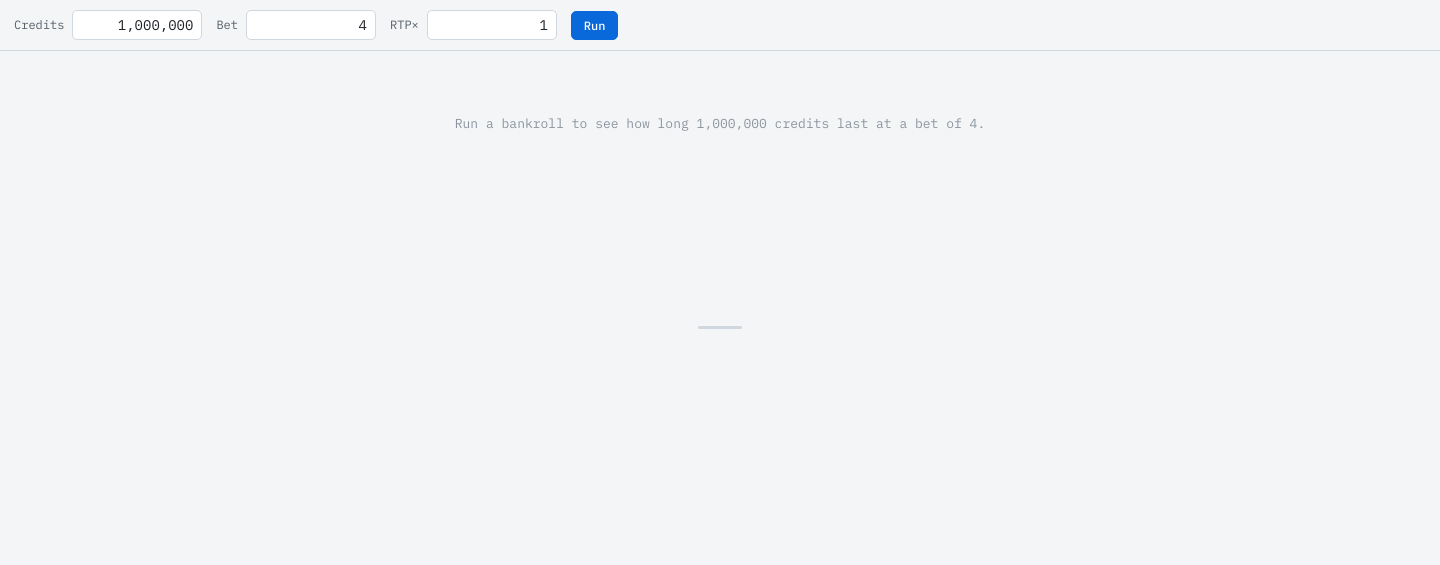
Test: BankrollSim stat tiles snapshot the run › scales Biggest Win by the run's own bet, not the default of 1
Click the button "Run": (595, 25) [571,10,618,40]
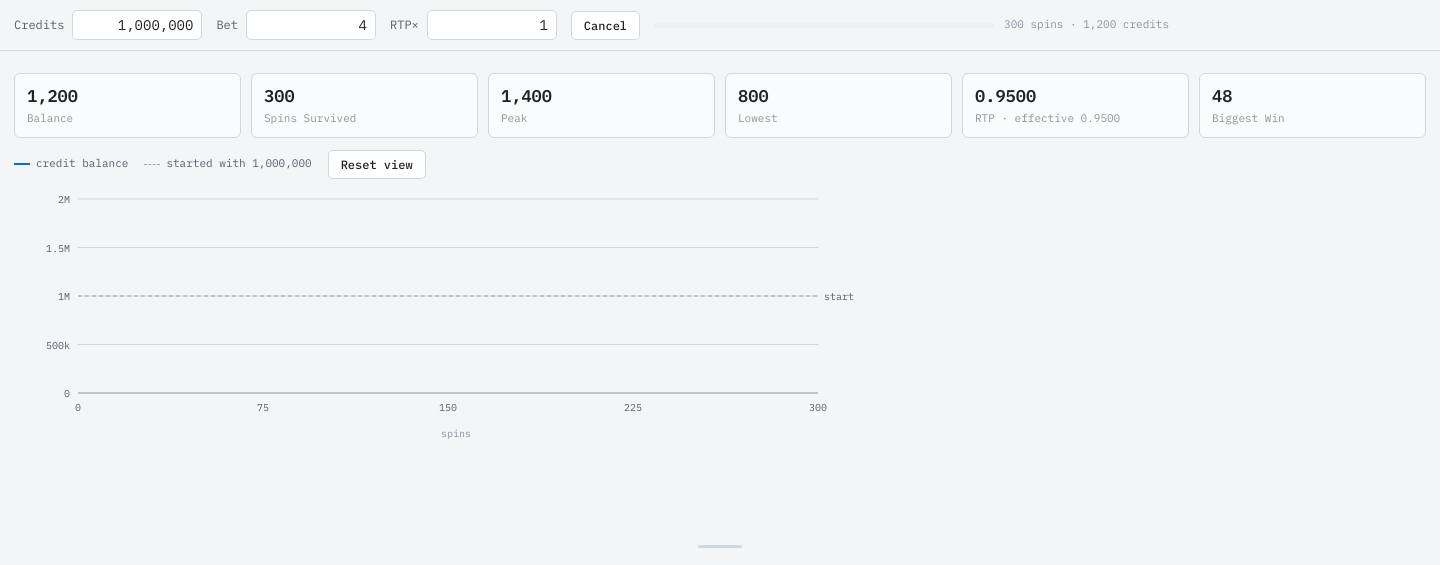
Expected: the text "48" is shown, [1212,85,1232,107]
